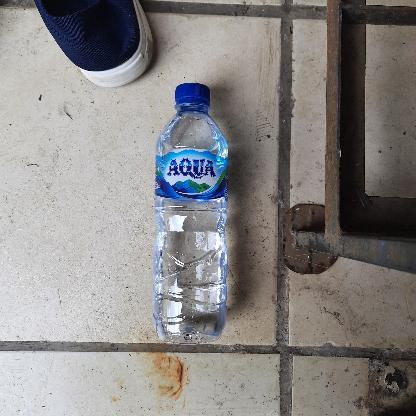Plastic Bottle: (150, 79, 234, 343)
